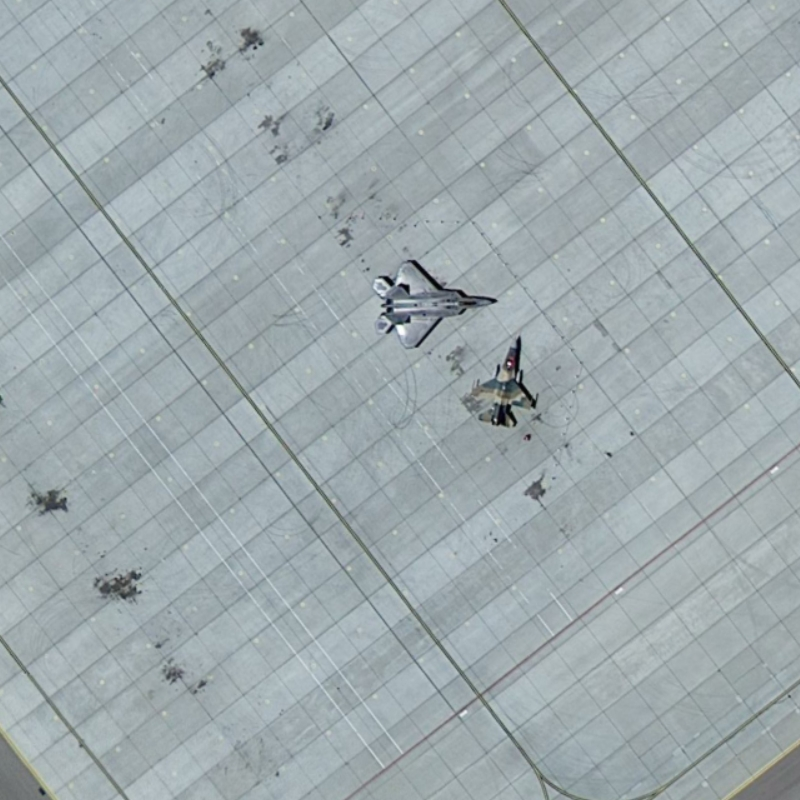A15: (363, 249, 507, 347)
A5: (461, 339, 553, 429)
